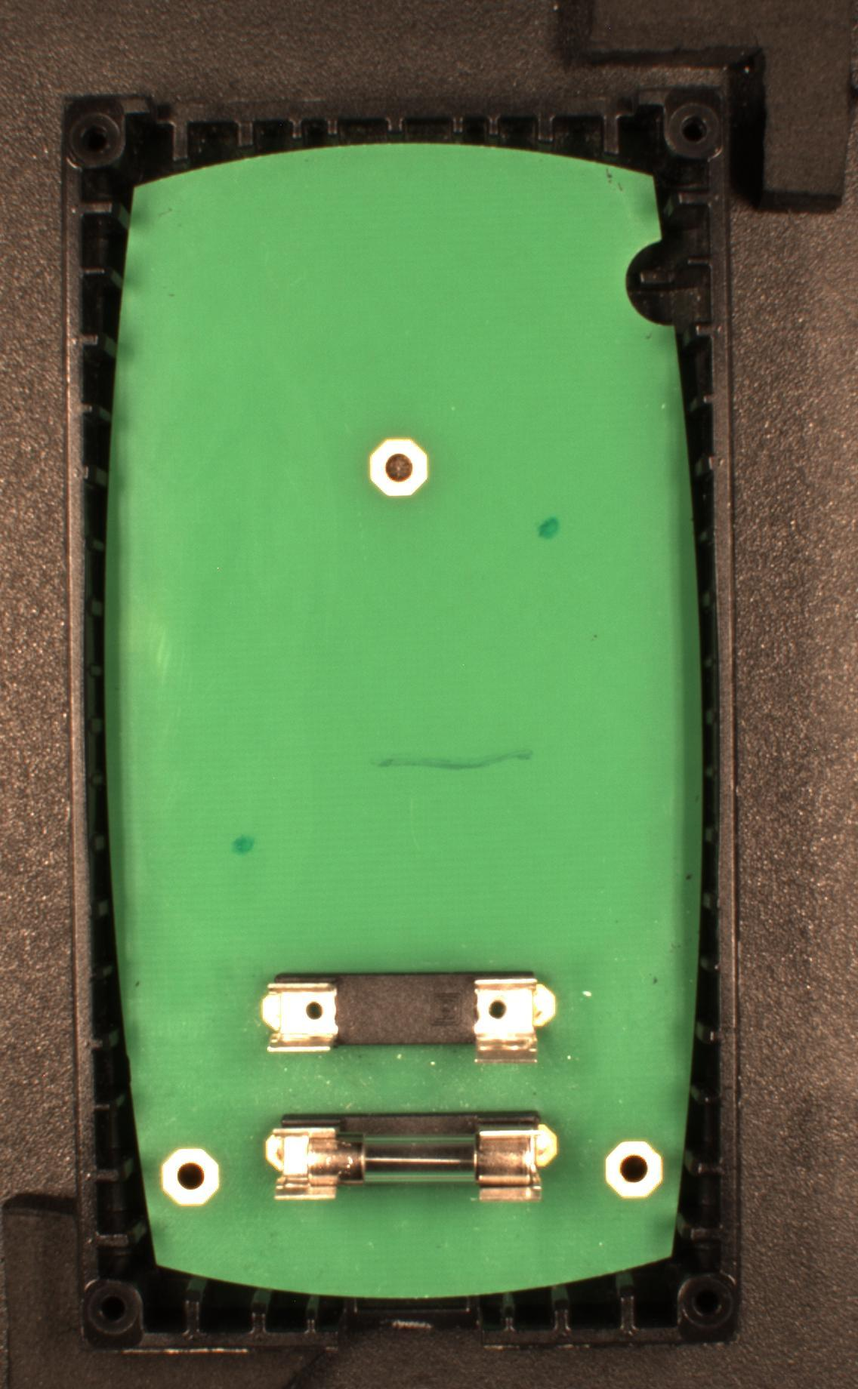Linijsko Ostecene: (373, 747, 536, 773)
Nepostojanje osiguraca: (261, 969, 557, 1066)
Tockasto Ostecenje: (536, 517, 563, 540), (231, 834, 256, 857)
